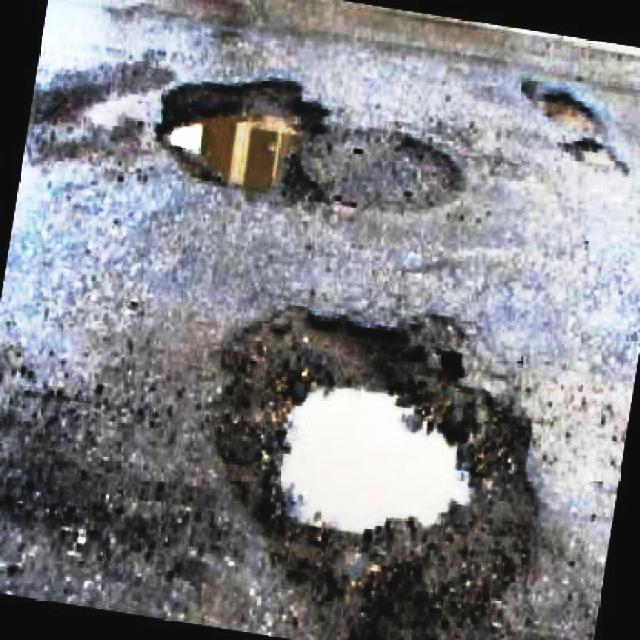pothole: (210, 297, 538, 634), (149, 69, 334, 202), (540, 86, 622, 180)
